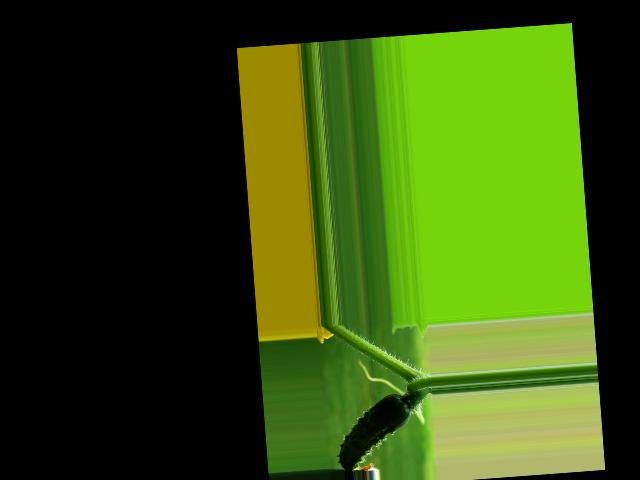cucumber: (333, 391, 413, 470)
